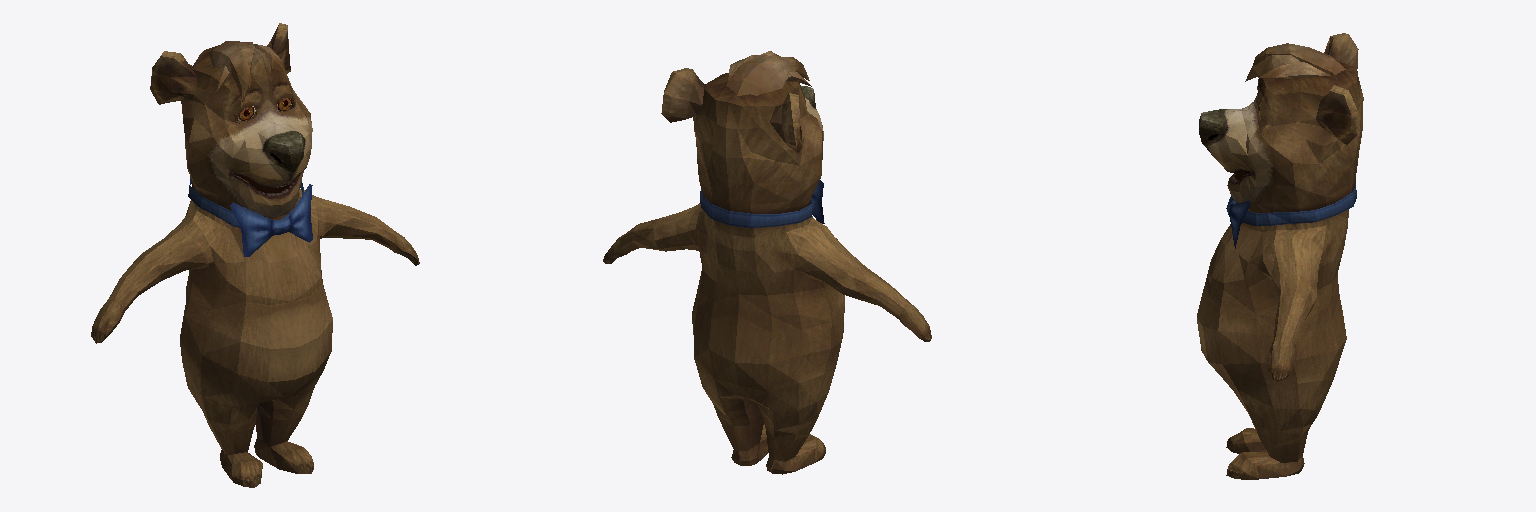
3 renders of one model, left to right at view 1: azimuth 30°, elevation 25°; view 2: azimuth 150°, elevation 25°; view 3: azimuth 270°, elevation 25°, orthographic.
Visible parts, largest first — view 1: Mesh_0028.rip; view 2: Mesh_0028.rip; view 3: Mesh_0028.rip.
Boxes of the visible parts, x1,y1,x2,y2 form: Mesh_0028.rip: [91, 23, 419, 487]; Mesh_0028.rip: [603, 51, 931, 474]; Mesh_0028.rip: [1197, 33, 1363, 479].
Bounding box in the file's own units: 10.79 × 13.05 × 4.81.
1 materials, 1 textured.